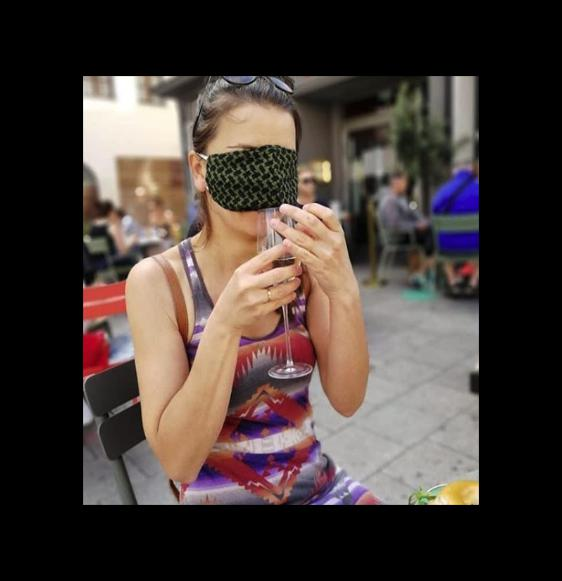mask_weared_incorrect: (205, 134, 306, 243)
without_mask: (301, 174, 315, 195), (392, 176, 409, 189)
